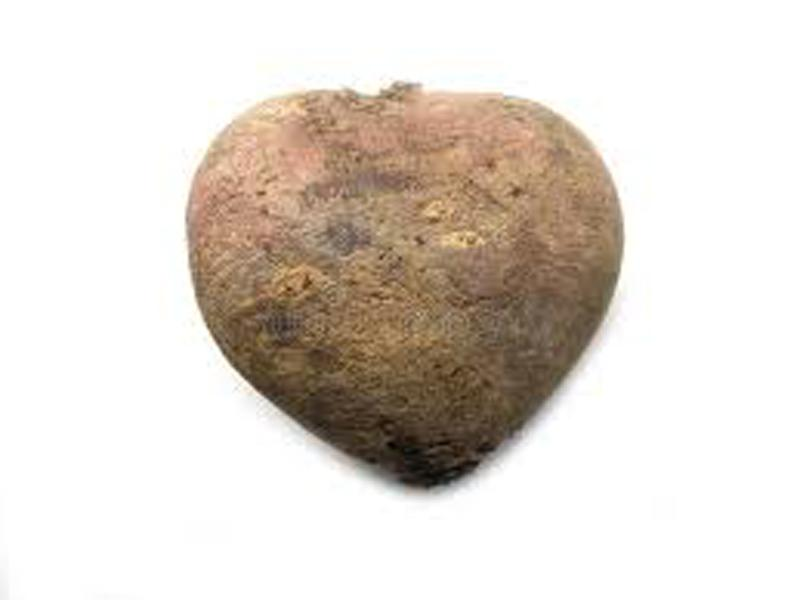Beet: (184, 87, 626, 486)
